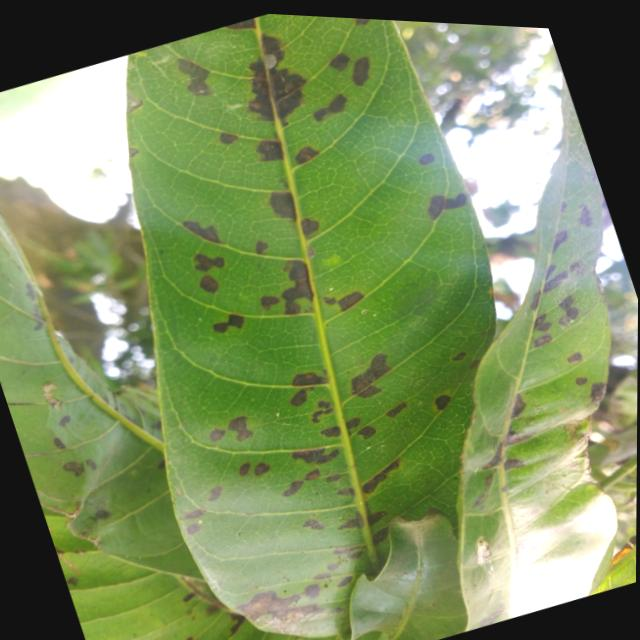Anthracnose: (237, 32, 317, 128), (344, 349, 402, 406), (237, 587, 325, 623), (346, 352, 400, 406), (175, 48, 218, 101), (279, 258, 314, 315), (359, 456, 405, 496), (181, 211, 228, 248), (311, 91, 351, 126), (426, 189, 470, 220), (345, 54, 377, 89), (211, 310, 247, 337), (225, 412, 256, 443), (482, 441, 510, 474), (40, 378, 66, 412), (472, 473, 496, 509), (306, 397, 335, 426), (540, 268, 572, 294), (476, 604, 508, 630), (192, 247, 225, 272), (292, 447, 340, 464), (270, 191, 296, 219), (336, 287, 365, 312), (546, 226, 570, 255), (292, 142, 320, 166), (255, 139, 284, 162), (328, 49, 354, 74), (281, 476, 305, 501), (559, 295, 579, 325), (291, 371, 328, 387), (299, 214, 322, 238), (288, 386, 311, 409), (225, 18, 257, 34), (431, 390, 454, 412), (530, 312, 553, 334), (369, 524, 393, 545), (385, 400, 408, 419), (511, 393, 527, 420), (207, 424, 227, 444), (260, 293, 282, 311), (319, 424, 342, 441), (183, 506, 206, 523), (253, 459, 272, 479), (357, 422, 378, 440), (126, 90, 142, 113), (578, 203, 594, 226), (532, 332, 554, 348), (337, 516, 362, 530), (303, 516, 326, 531), (590, 381, 605, 403), (230, 612, 245, 634), (303, 581, 321, 599), (336, 572, 354, 590), (23, 280, 38, 301), (366, 510, 387, 525), (529, 289, 543, 311), (252, 238, 269, 256), (218, 131, 238, 146), (504, 456, 525, 470), (91, 507, 112, 521), (237, 460, 254, 477), (185, 520, 203, 536), (418, 151, 436, 167), (64, 461, 84, 475), (565, 350, 583, 365), (303, 467, 321, 482), (344, 415, 362, 430), (52, 436, 68, 452), (313, 569, 332, 581), (58, 413, 72, 428), (467, 357, 482, 370), (182, 591, 196, 604), (336, 486, 355, 495), (450, 351, 467, 361), (85, 458, 99, 470), (65, 574, 80, 585), (128, 144, 140, 157), (327, 473, 342, 481), (559, 200, 568, 213), (306, 245, 315, 258), (575, 376, 586, 385), (355, 18, 370, 24), (327, 562, 339, 569), (186, 636, 194, 639), (0, 219, 1, 241)
